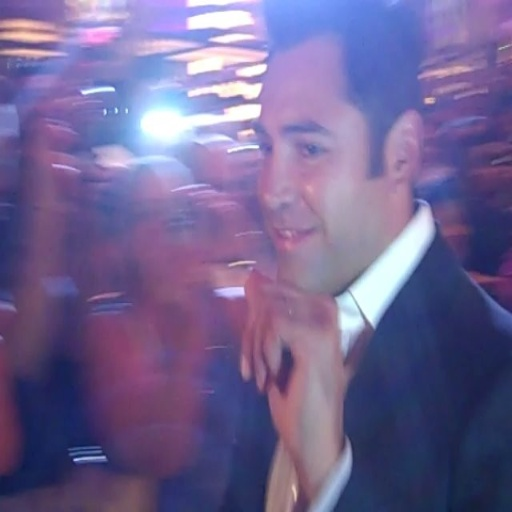hand: (240, 265, 371, 483), (19, 91, 90, 210), (174, 181, 269, 259)
